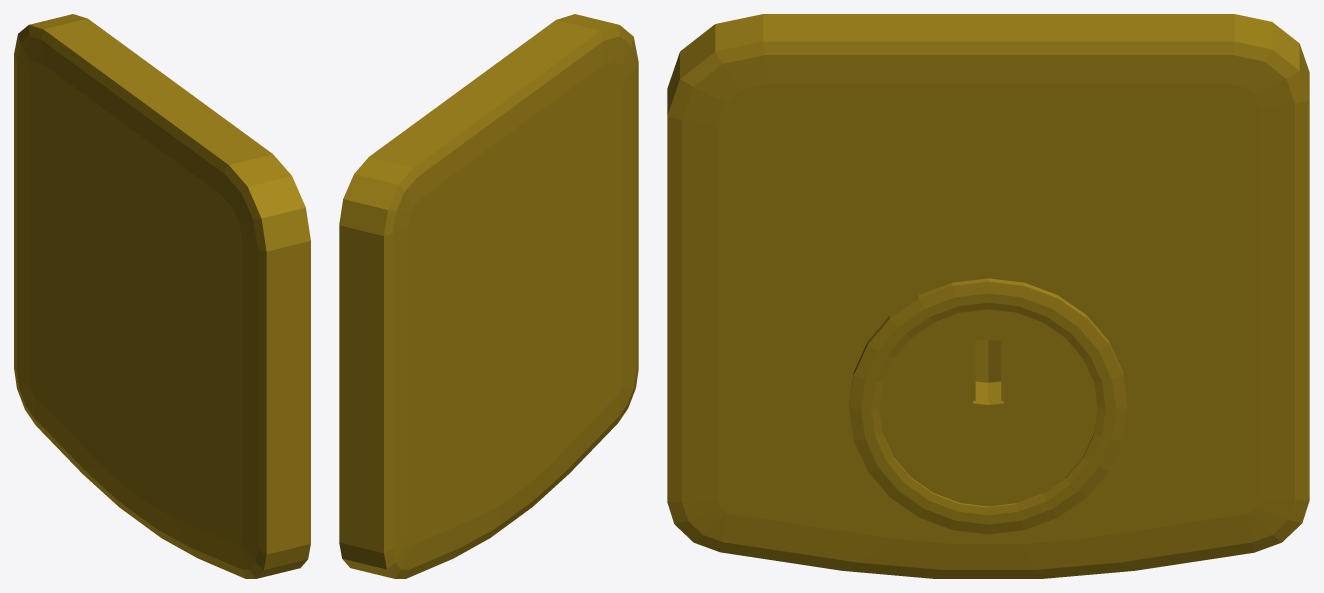
Rendered from cerradura.fbx.
The picture shows the model from 3 angles, left to right: view 1: azimuth 30°, elevation 25°; view 2: azimuth 150°, elevation 25°; view 3: azimuth 270°, elevation 25°; orthographic projection. The views are drawn at different scales.
Parts seen in each view (by area): view 1: candao; view 2: candao; view 3: candao.
Boxes of the visible parts, x1,y1,x2,y2 form: candao: [14, 14, 310, 578]; candao: [339, 14, 638, 578]; candao: [667, 14, 1309, 578].
Size of the model in its own units: 0.399 by 2.7 by 2.93.
Materials: 1 (1 with a texture image).
